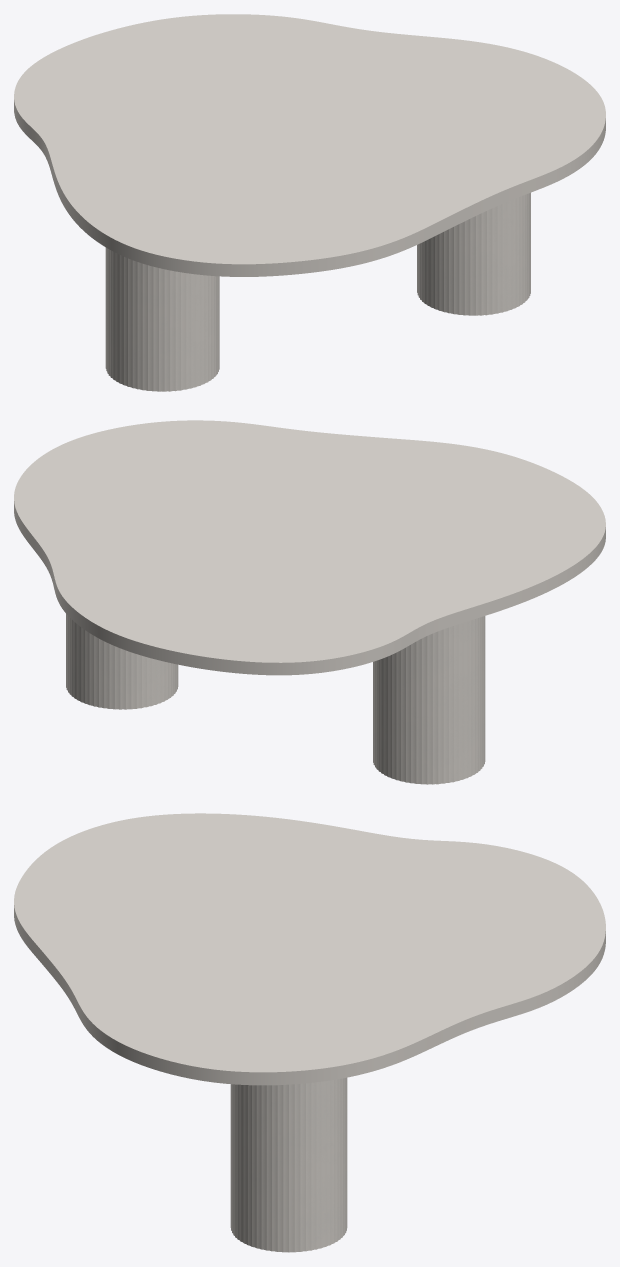
File: pearlwhite_topone_round_ripplesecond.glb
3 renders of one model, top to bottom at view 1: azimuth 30°, elevation 25°; view 2: azimuth 150°, elevation 25°; view 3: azimuth 270°, elevation 25°, orthographic. The views are drawn at different scales.
Parts seen in each view (by area): view 1: round_topone, ripplesecond; view 2: round_topone, ripplesecond; view 3: round_topone, ripplesecond.
Part boxes in pixels (x1,y1,x2,y2): round_topone: (14, 14, 605, 276); ripplesecond: (105, 192, 530, 391); round_topone: (14, 420, 605, 675); ripplesecond: (66, 614, 485, 784); round_topone: (14, 813, 605, 1085); ripplesecond: (230, 1077, 347, 1252).
Size of the model in its own units: 6.83 by 2.5 by 6.6.
1 material, 1 textured.
